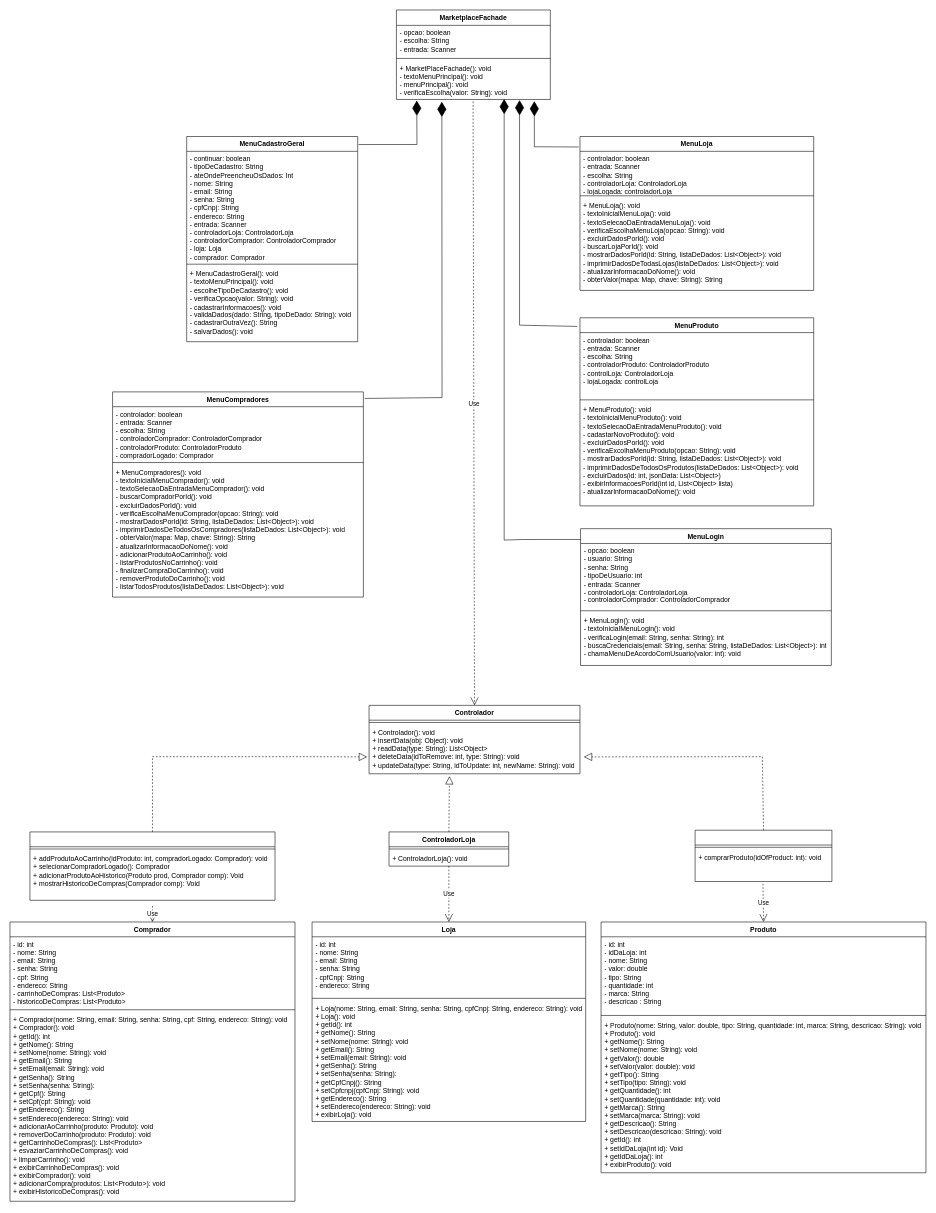
The diagram is 936 pixels wide and 1213 high, and some of its shapes have lost their labels. The box of each missing label's shape, as (x1, y1, x2, y2) in pixels:
ControladorComprador: (29, 831, 275, 900)
ControladorProduto: (695, 830, 832, 882)
